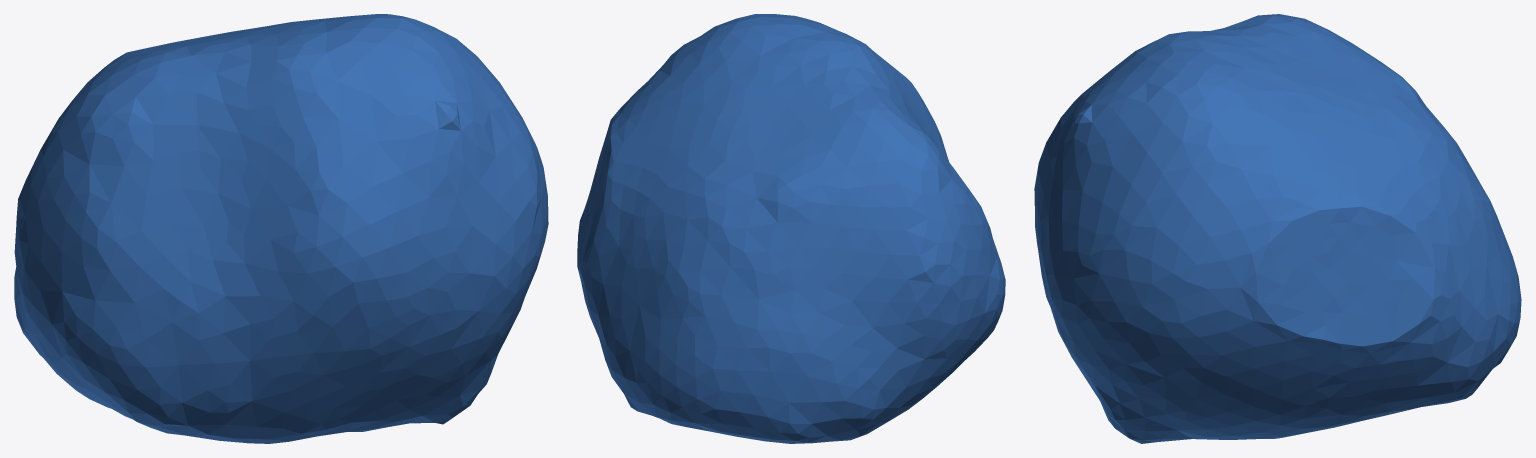
Rendered from wireframe.glb.
The picture shows the model from 3 angles, left to right: view 1: azimuth 30°, elevation 25°; view 2: azimuth 150°, elevation 25°; view 3: azimuth 270°, elevation 25°; orthographic projection. The views are drawn at different scales.
Parts seen in each view (by area): view 1: mesh; view 2: mesh; view 3: mesh.
Boxes of the visible parts, left/top/right/bottom form: mesh: left=14, top=14, right=548, bottom=443; mesh: left=577, top=14, right=1005, bottom=443; mesh: left=1034, top=14, right=1521, bottom=443.
Bounding box in the file's own units: 0.9185 × 0.7508 × 0.9176.
